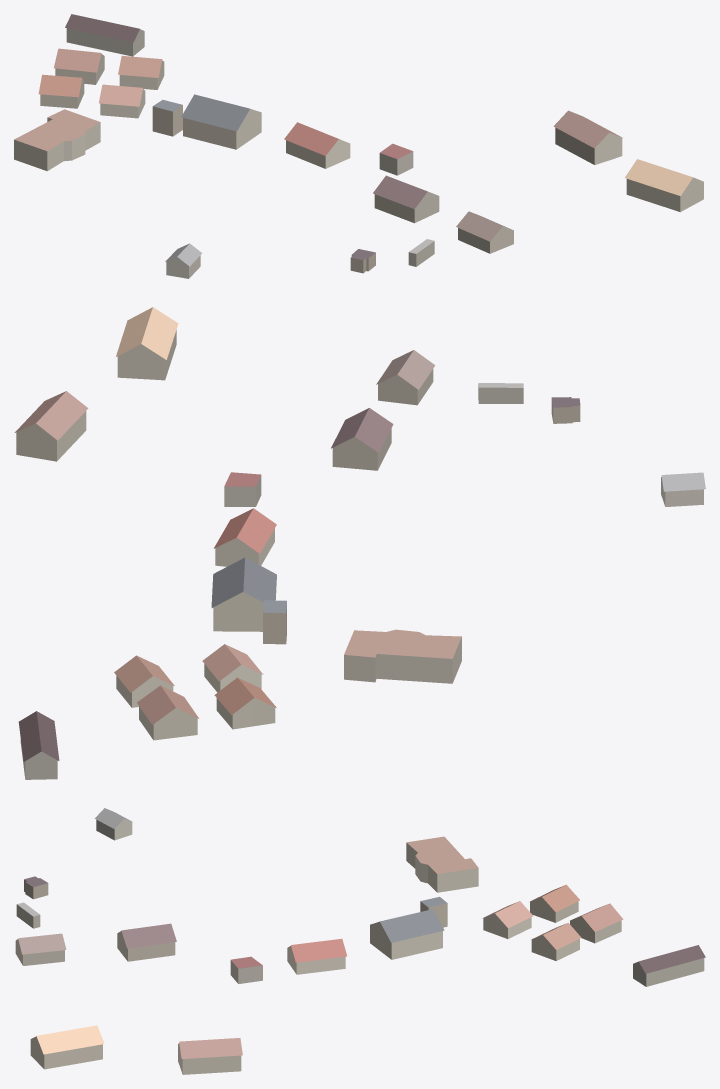
The picture shows the model from 3 angles, top to bottom: view 1: azimuth 30°, elevation 25°; view 2: azimuth 150°, elevation 25°; view 3: azimuth 270°, elevation 25°; orthographic projection. The views are drawn at different scales.
Visible parts, largest first — view 1: tuile; view 2: tuile; view 3: tuile.
Boxes of the visible parts, left/top/right/bottom form: tuile: left=14, top=14, right=703, bottom=278; tuile: left=14, top=307, right=705, bottom=779; tuile: left=15, top=808, right=705, bottom=1074.
Size of the model in its own units: 144 by 18.04 by 184.
